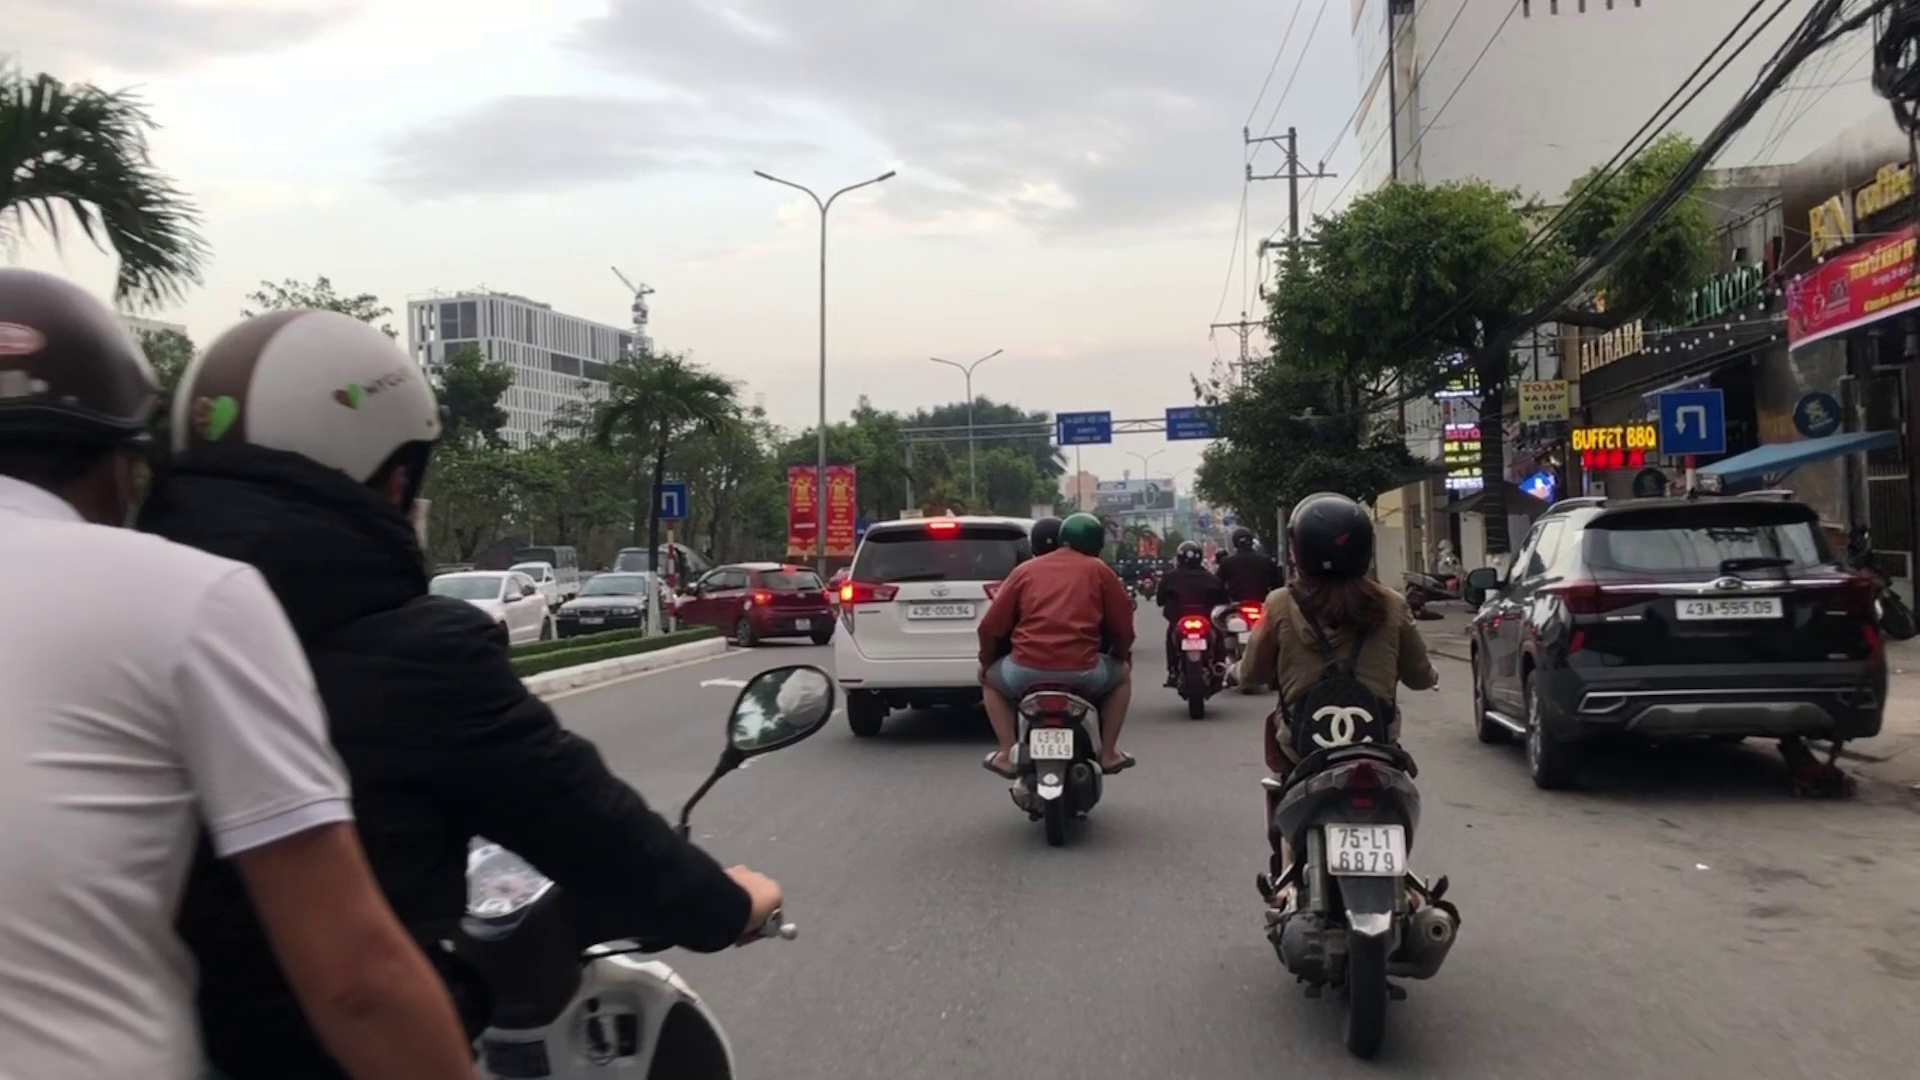Bien khac: (1654, 388, 1730, 462), (651, 481, 686, 521)
